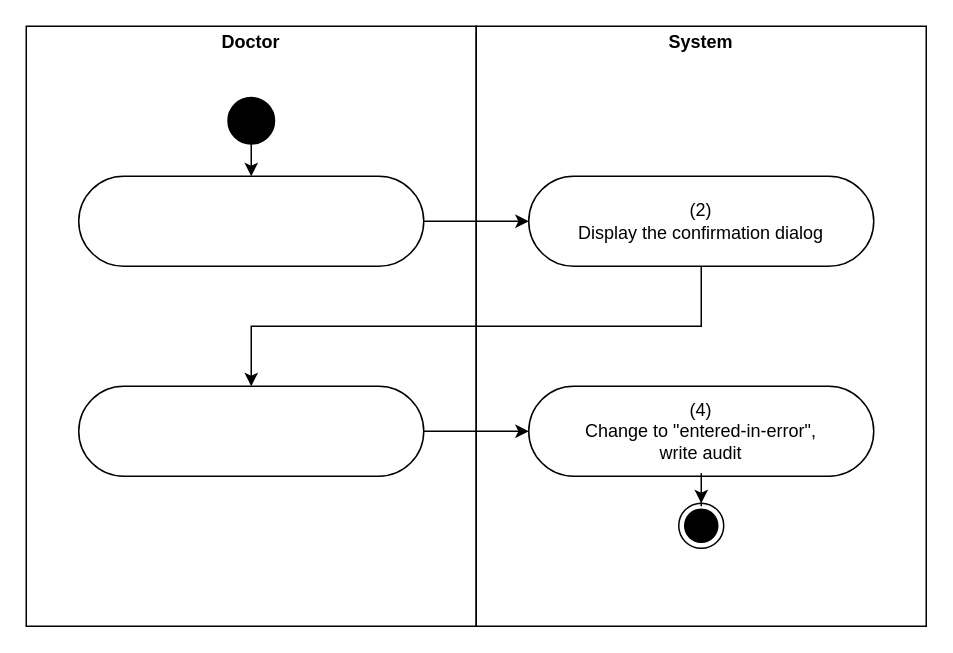
Some shapes in this 953 by 653 pixel diagram are drawn without their labels. Each missing label, with the centre of its shape:
(1) Click "Mark as entered in error", enter a reason: [250,220]
(3) Confirm: [250,430]
